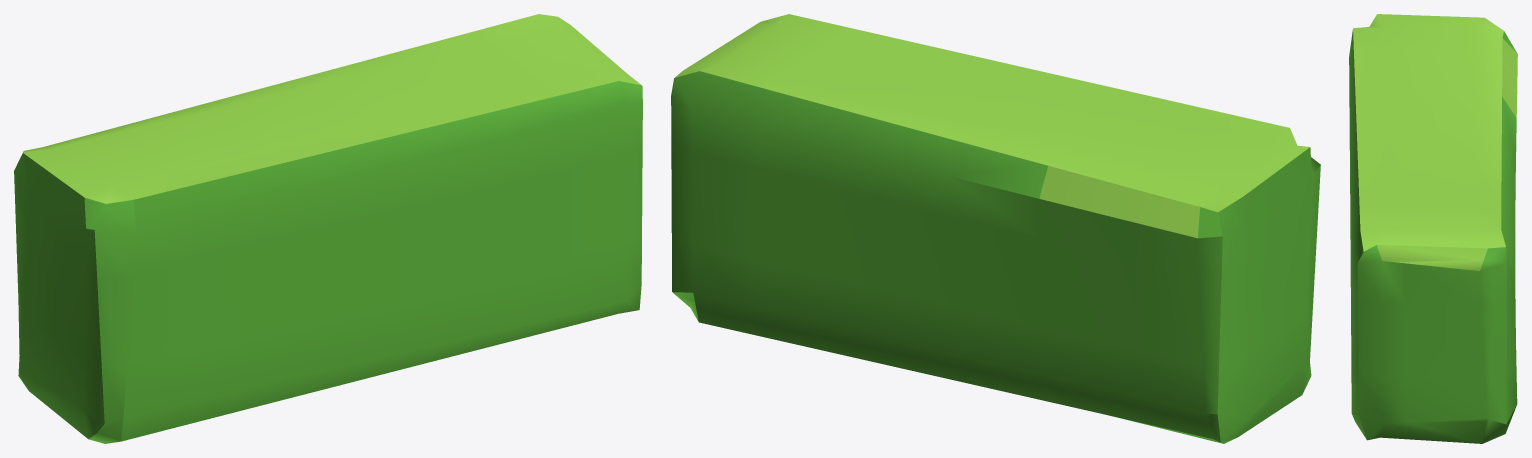
Rendered from Hedge.fbx.
3 renders of one model, left to right at view 1: azimuth 30°, elevation 25°; view 2: azimuth 150°, elevation 25°; view 3: azimuth 270°, elevation 25°, orthographic. The views are drawn at different scales.
Visible parts, largest first — view 1: Hedge; view 2: Hedge; view 3: Hedge.
Part boxes in pixels (x1,y1,x2,y2): Hedge: (14, 14, 642, 443); Hedge: (671, 14, 1320, 443); Hedge: (1349, 14, 1517, 443).
Bounding box in the file's own units: 6.04 × 2.62 × 1.87.
Materials: 1 (1 with a texture image).
